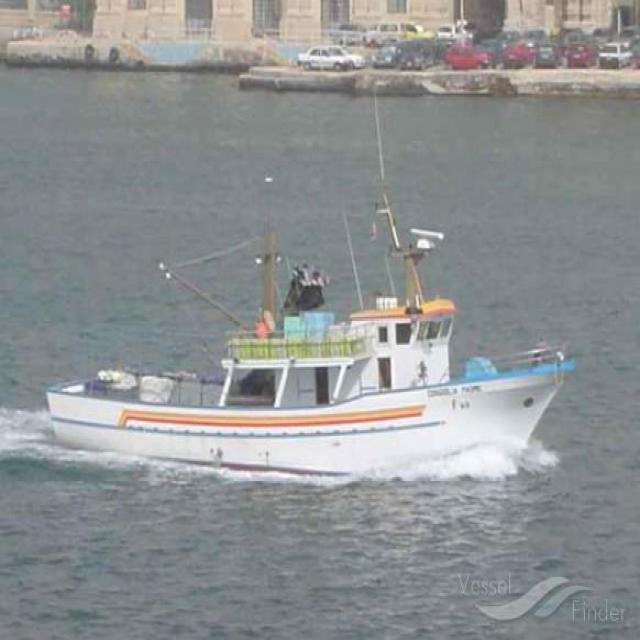Fishing Vessel: (44, 227, 574, 482)
